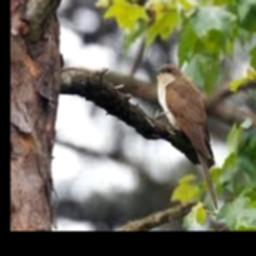Cuckoo: (152, 64, 218, 210)
